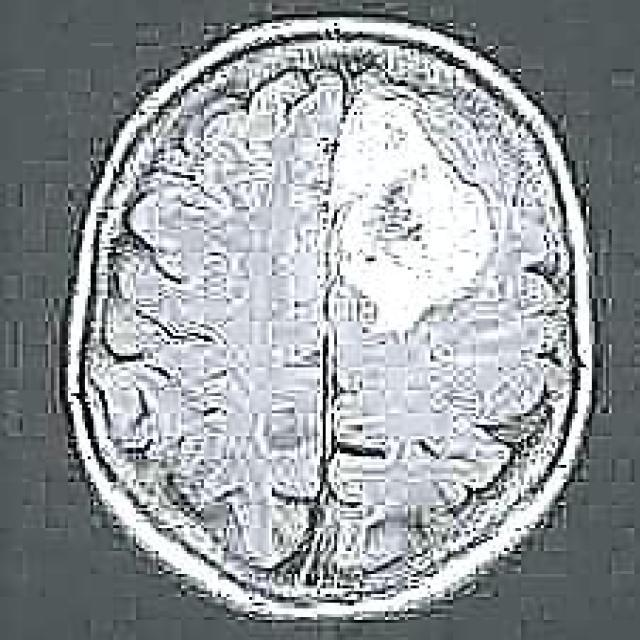brain tumor: (331, 98, 498, 333)
